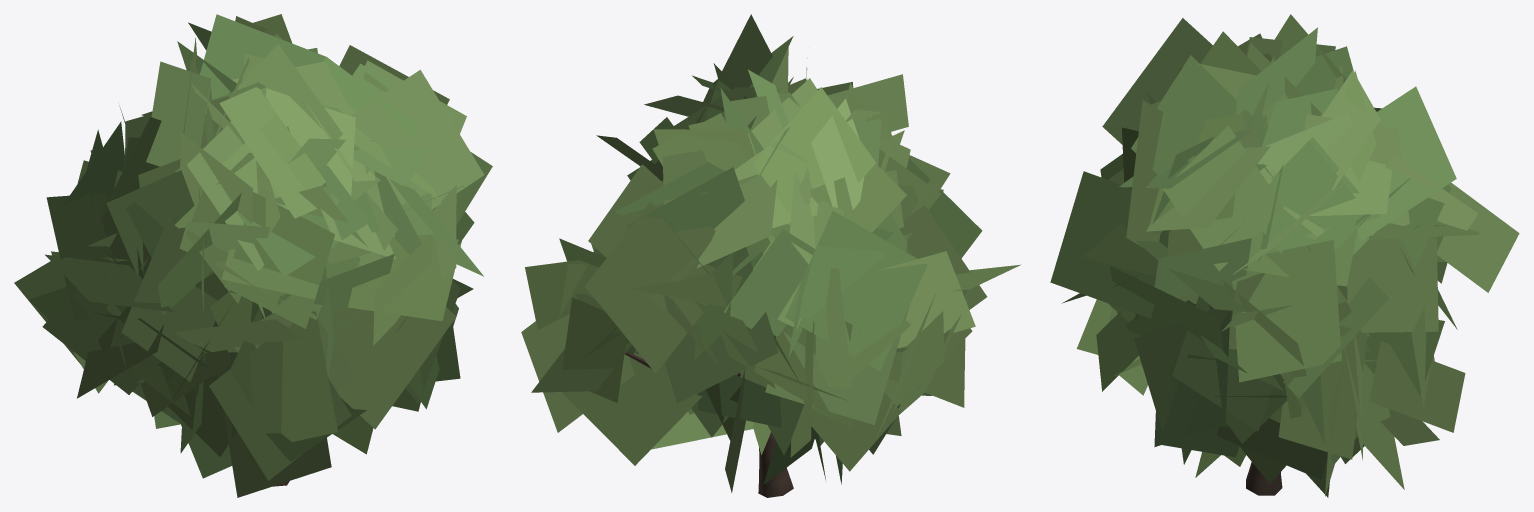
File: oak_lod1.glb
3 renders of one model, left to right at view 1: azimuth 30°, elevation 25°; view 2: azimuth 150°, elevation 25°; view 3: azimuth 270°, elevation 25°, orthographic. The views are drawn at different scales.
Parts seen in each view (by area): view 1: oak_lod1; view 2: oak_lod1; view 3: oak_lod1.
Boxes of the visible parts, x1,y1,x2,y2 form: oak_lod1: (14,14,492,497); oak_lod1: (521,14,1020,497); oak_lod1: (1050,14,1519,497).
Size of the model in its own units: 1 by 1 by 0.9411.
